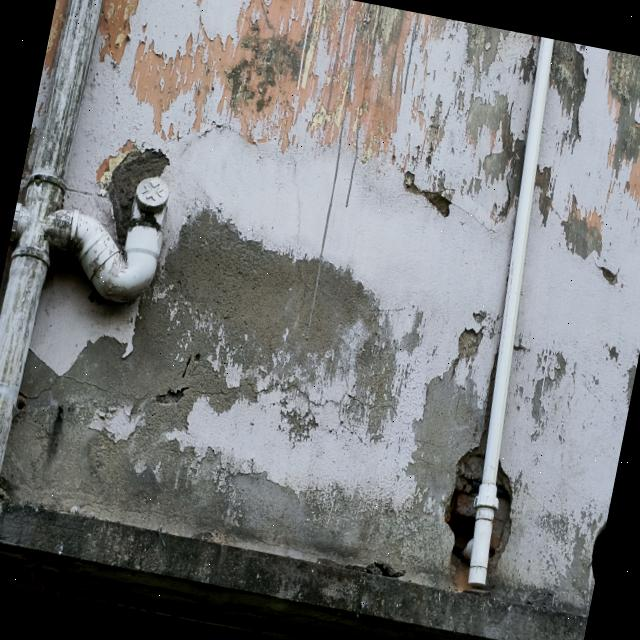crack: (197, 360, 403, 423), (22, 366, 215, 407)
peeling: (98, 0, 540, 223), (491, 491, 609, 618), (518, 337, 571, 450), (605, 51, 640, 199), (549, 40, 590, 154), (562, 194, 603, 257), (97, 136, 135, 189), (44, 0, 71, 71), (535, 149, 555, 225)
spalling: (0, 210, 489, 579)
stain_mould: (0, 497, 588, 640)
